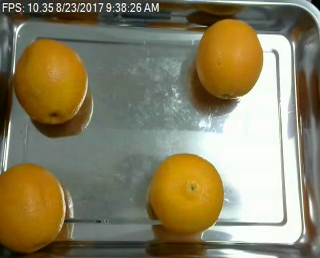Orange: (15, 38, 88, 124), (148, 152, 223, 233), (1, 163, 66, 251), (195, 17, 263, 98)
